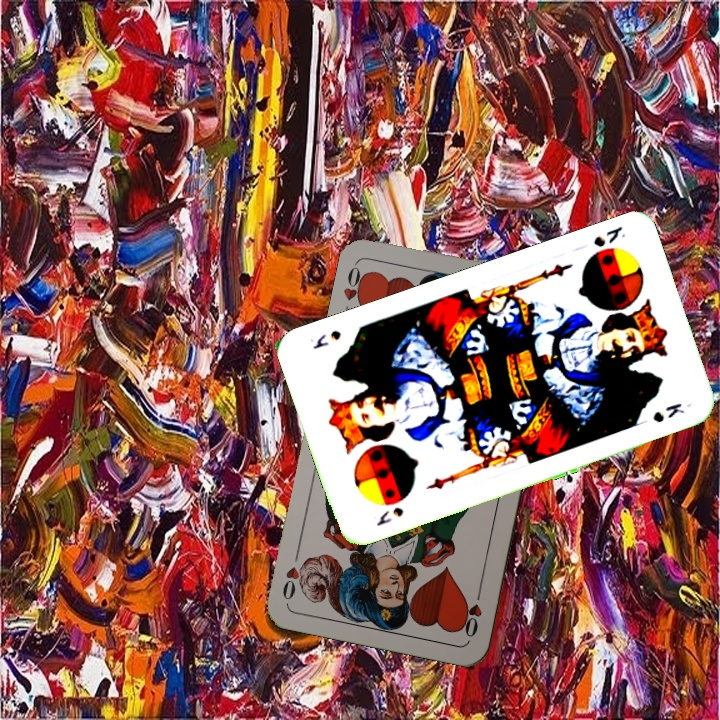HO: (458, 582, 485, 640), (339, 260, 370, 310)
SK: (589, 222, 628, 250), (372, 503, 407, 529)
